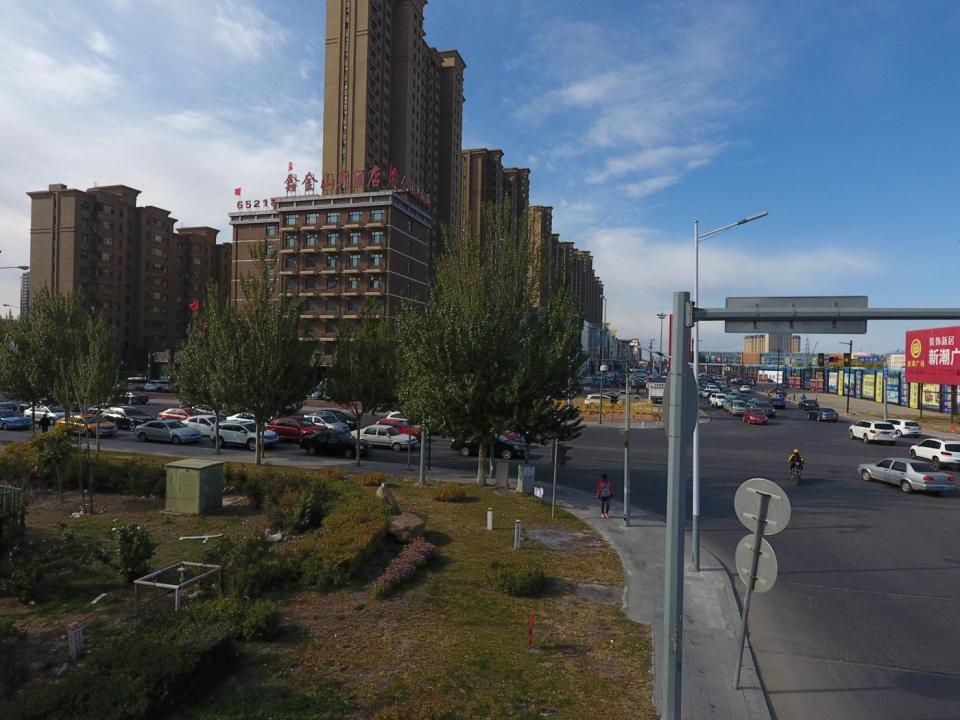car: (857, 458, 956, 496), (210, 419, 280, 450), (450, 433, 529, 458), (350, 424, 418, 451), (300, 431, 372, 456), (134, 418, 202, 444), (908, 437, 960, 470), (55, 413, 117, 439), (266, 417, 328, 442), (97, 408, 157, 431), (472, 423, 528, 446), (176, 415, 233, 437), (385, 410, 444, 431), (19, 395, 78, 415), (848, 420, 897, 444), (226, 411, 278, 433), (374, 418, 426, 440), (300, 414, 348, 436), (22, 404, 76, 423), (88, 401, 137, 420), (311, 409, 359, 428), (184, 403, 230, 421), (157, 407, 210, 422), (104, 389, 150, 406), (880, 419, 922, 437), (0, 410, 34, 430), (120, 376, 154, 391), (144, 379, 180, 393), (807, 406, 839, 421), (322, 386, 353, 401), (584, 394, 622, 406), (743, 407, 768, 425), (601, 391, 633, 402), (753, 401, 775, 417), (305, 386, 329, 400), (709, 393, 730, 408), (613, 390, 641, 401), (746, 398, 763, 411), (766, 398, 786, 409), (616, 378, 638, 386), (632, 378, 650, 387), (594, 380, 610, 390), (707, 392, 722, 402), (568, 380, 585, 388), (706, 384, 720, 393), (633, 381, 649, 388), (701, 390, 714, 398), (772, 386, 785, 394), (739, 380, 752, 388), (629, 377, 646, 383), (718, 386, 730, 393), (739, 384, 751, 391), (592, 374, 608, 379), (696, 387, 706, 395), (744, 380, 757, 386), (730, 377, 742, 383), (714, 375, 726, 380), (706, 383, 714, 390), (778, 383, 789, 388), (729, 386, 738, 392), (732, 380, 744, 384), (762, 378, 773, 382), (606, 376, 613, 382), (614, 378, 622, 383), (695, 375, 701, 381), (702, 372, 711, 376), (708, 378, 714, 383)
truck: (727, 400, 747, 416), (702, 382, 709, 387)
van: (723, 396, 737, 412), (577, 376, 594, 384), (731, 396, 744, 406), (727, 392, 740, 401), (722, 389, 733, 398), (736, 394, 747, 402), (596, 371, 609, 377)
